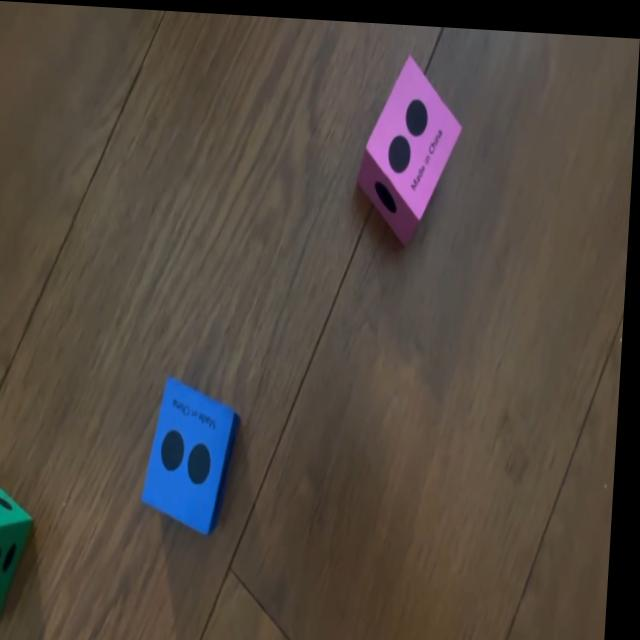cube: (148, 374, 249, 530), (0, 463, 40, 637)
